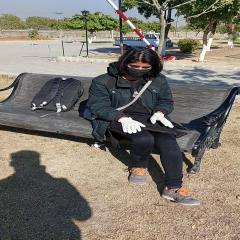gloved: (118, 118, 145, 134), (150, 112, 174, 128)
